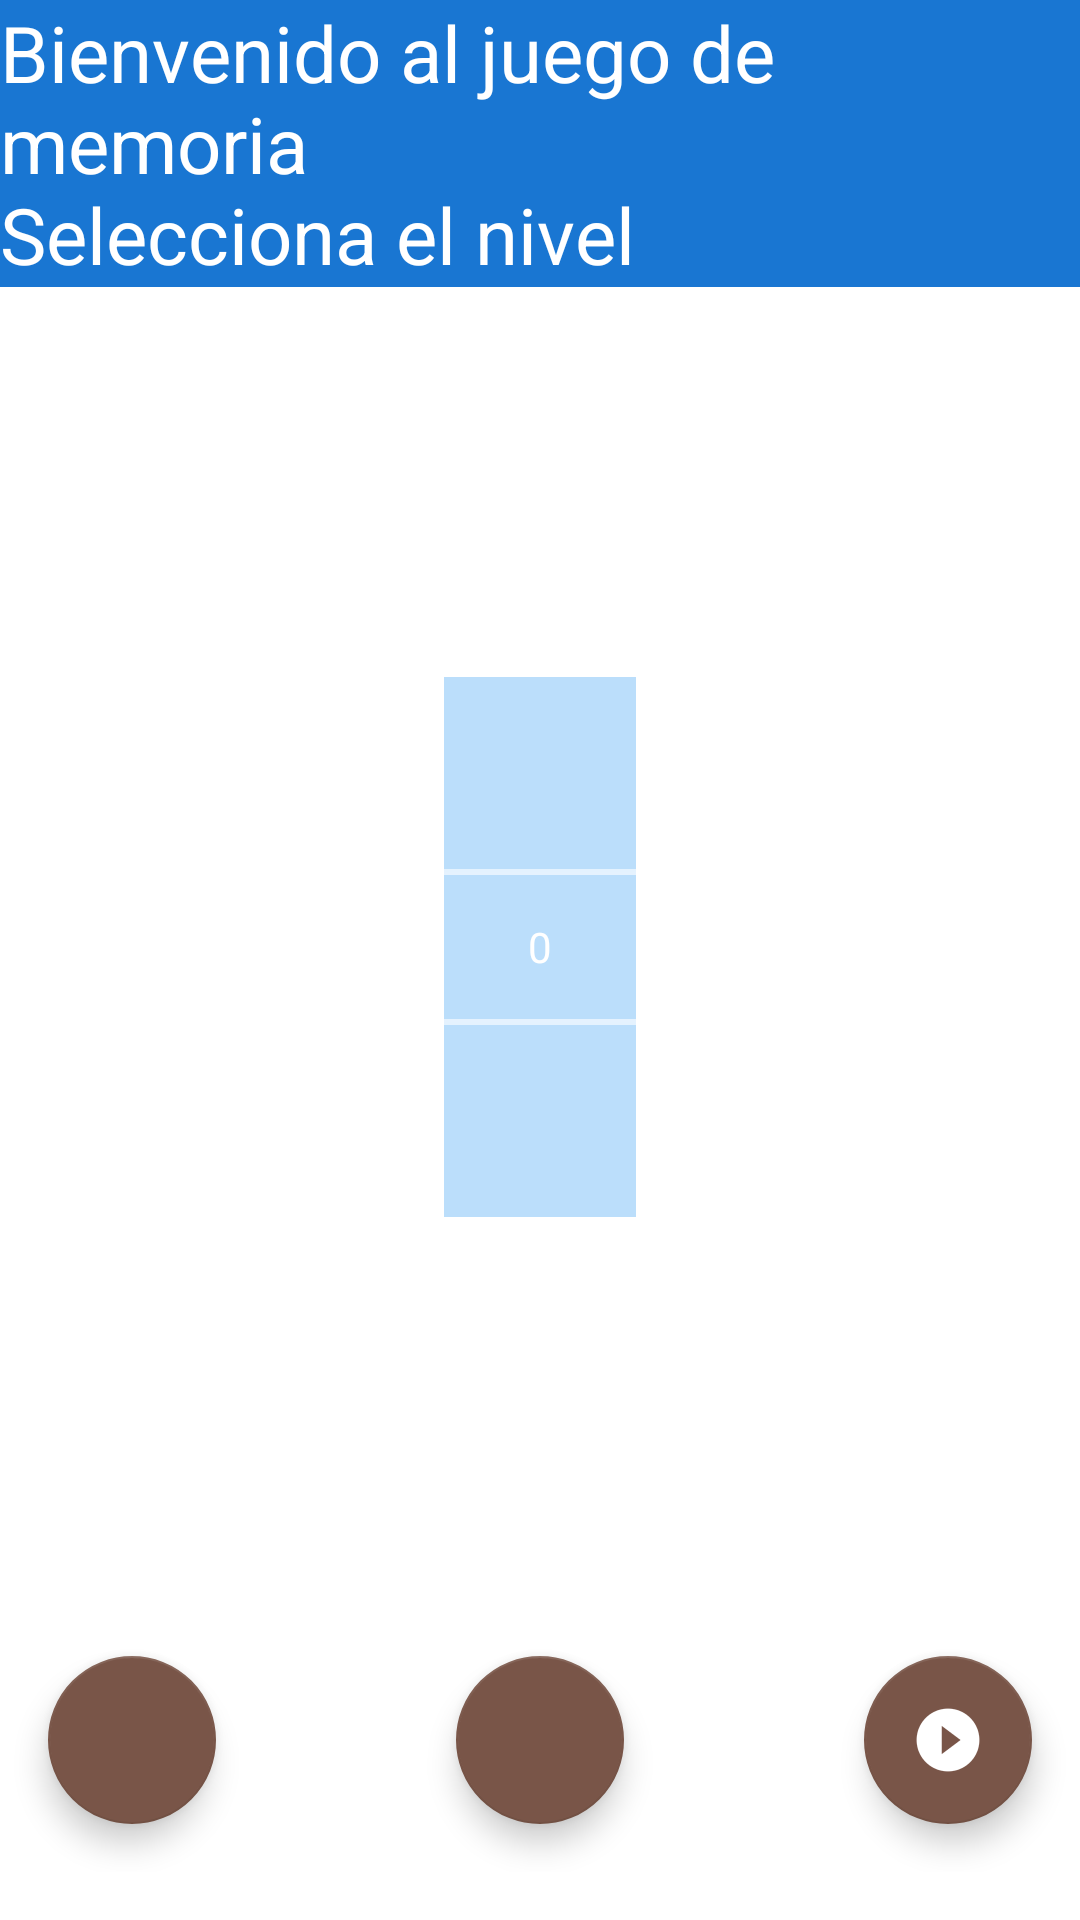

Where to tap for icons on this 1080w x 1920h app screen, as [x,y]:
play: [948,1740]
